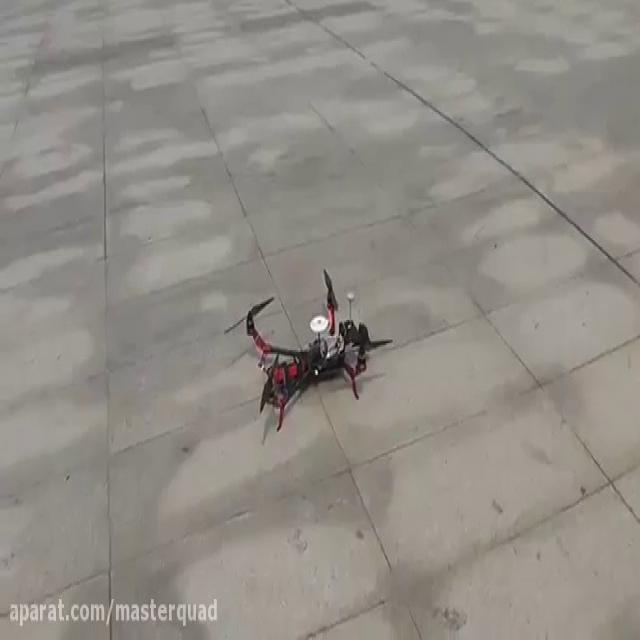drone: (221, 265, 394, 434)
